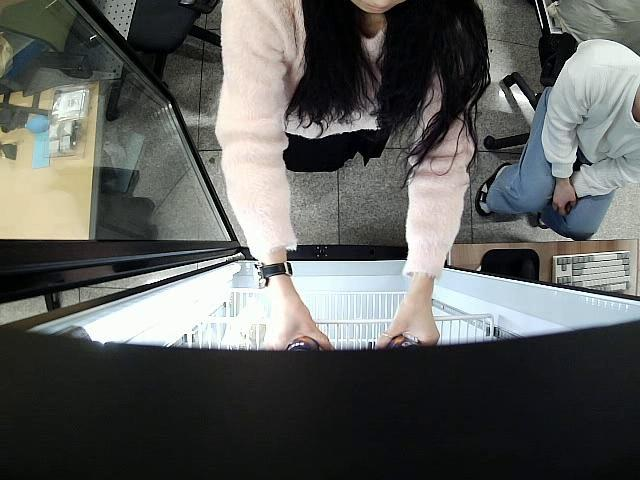16_hot6: (280, 334, 321, 354), (382, 331, 420, 352)
